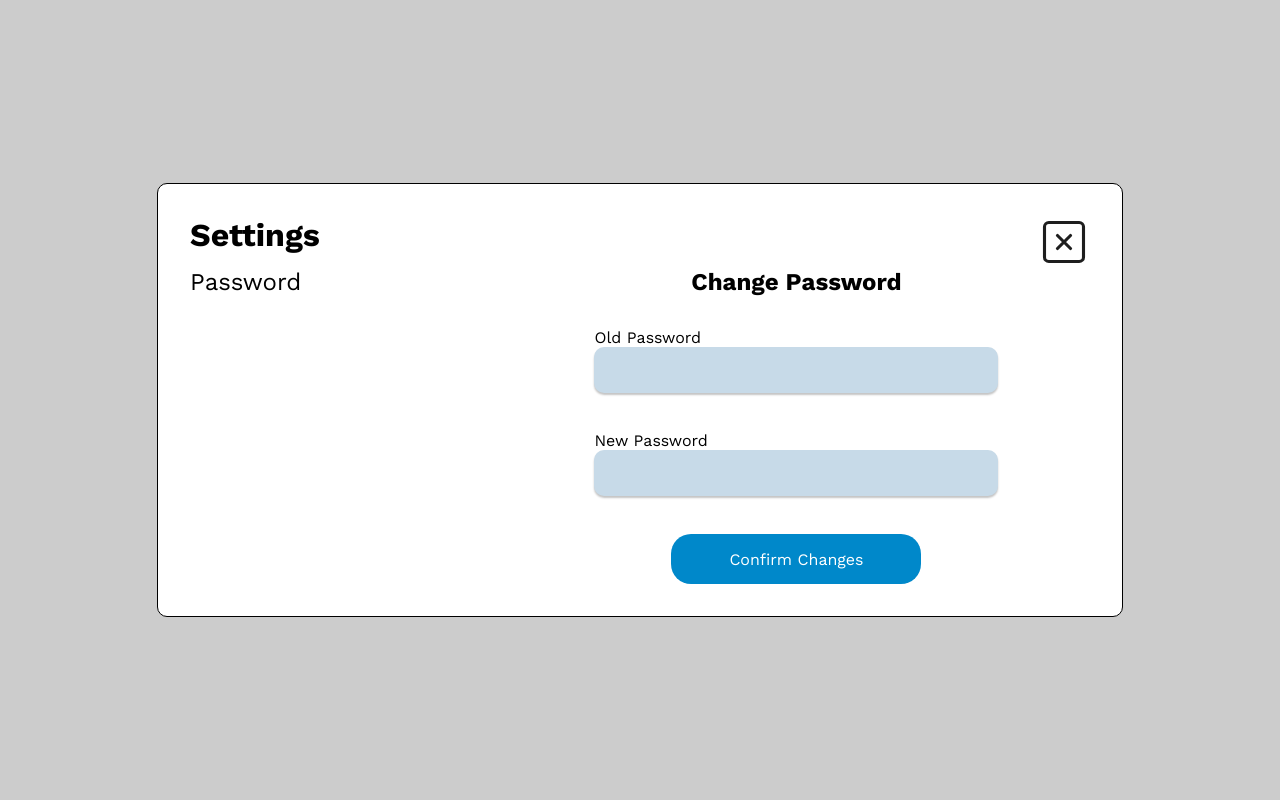
handles password change success
Type "old123" into the password field labelled "Old Password".
click(796, 370); type("old123")  # box [594,347,998,393]
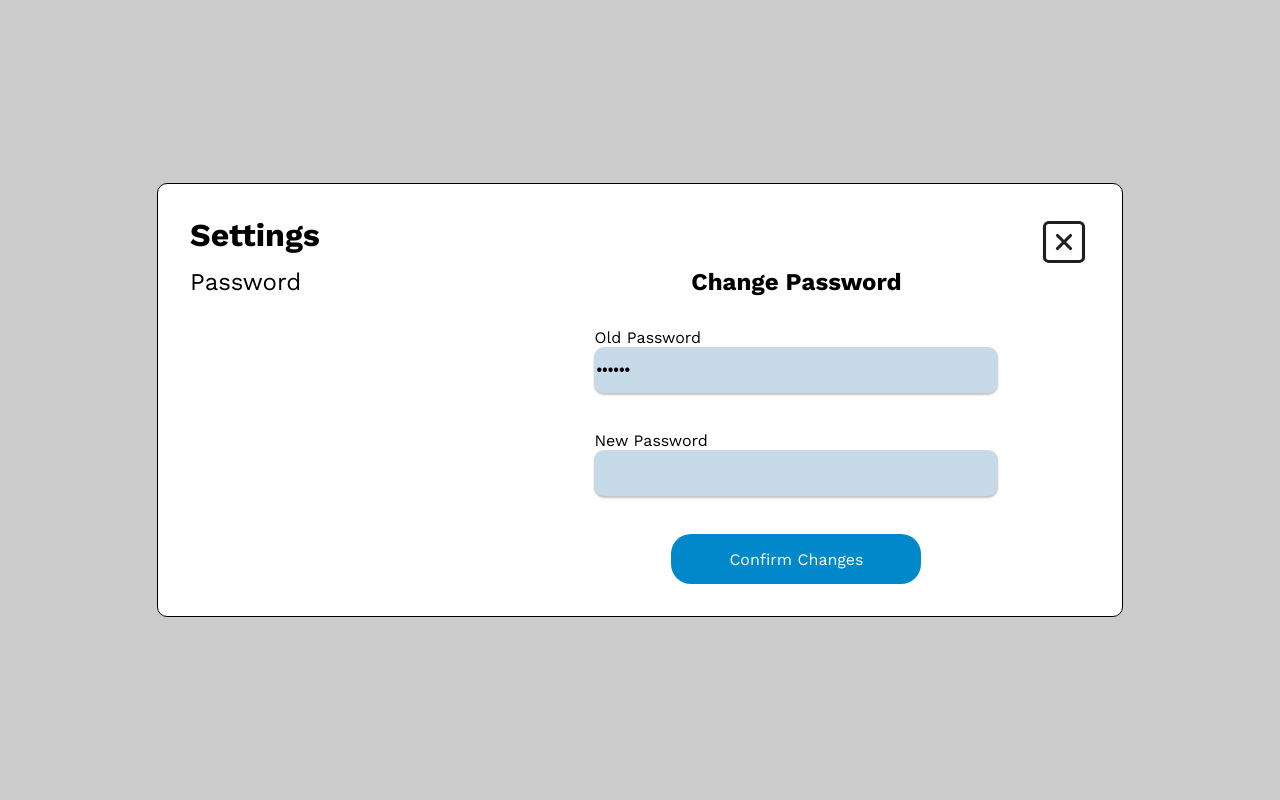
Type "new123" into the password field labelled "New Password".
click(796, 473); type("new123")  # box [594,450,998,496]
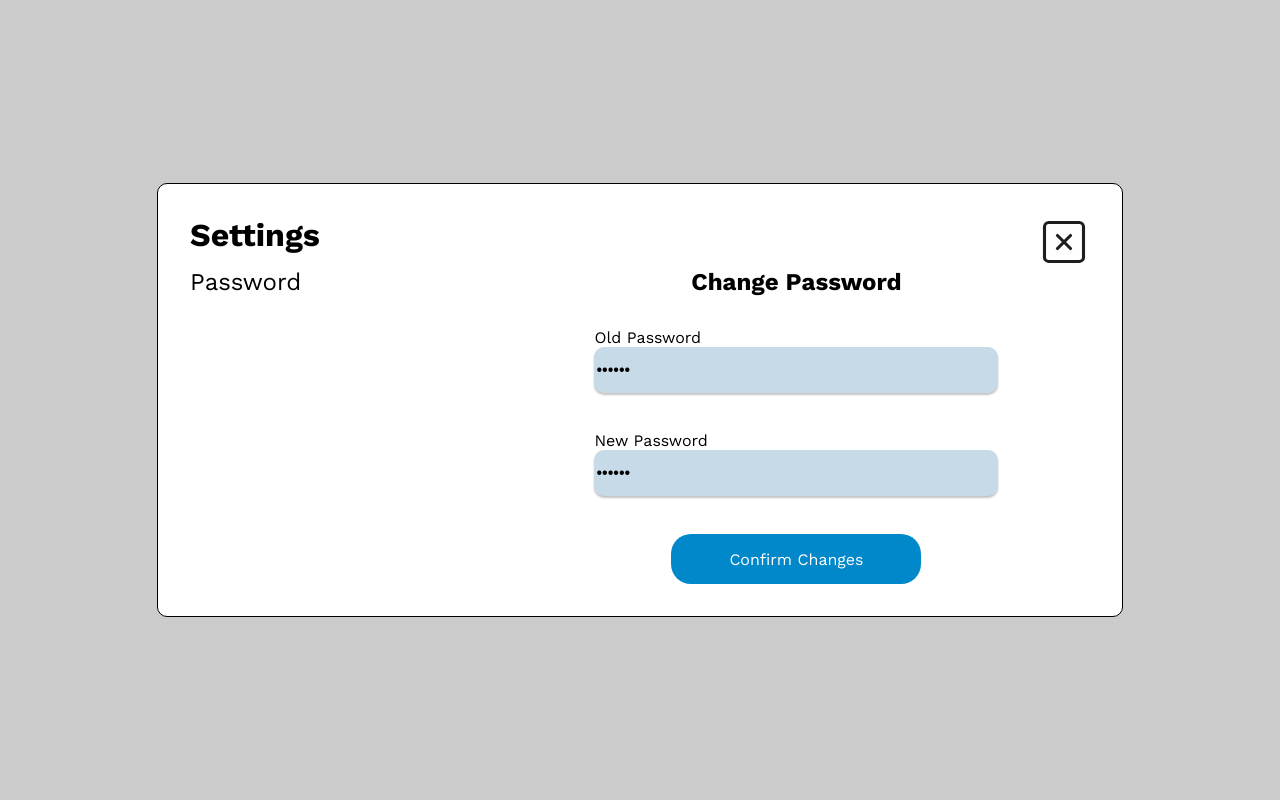
Click the button "Confirm Changes".
click(796, 559)  # box [672,534,922,584]
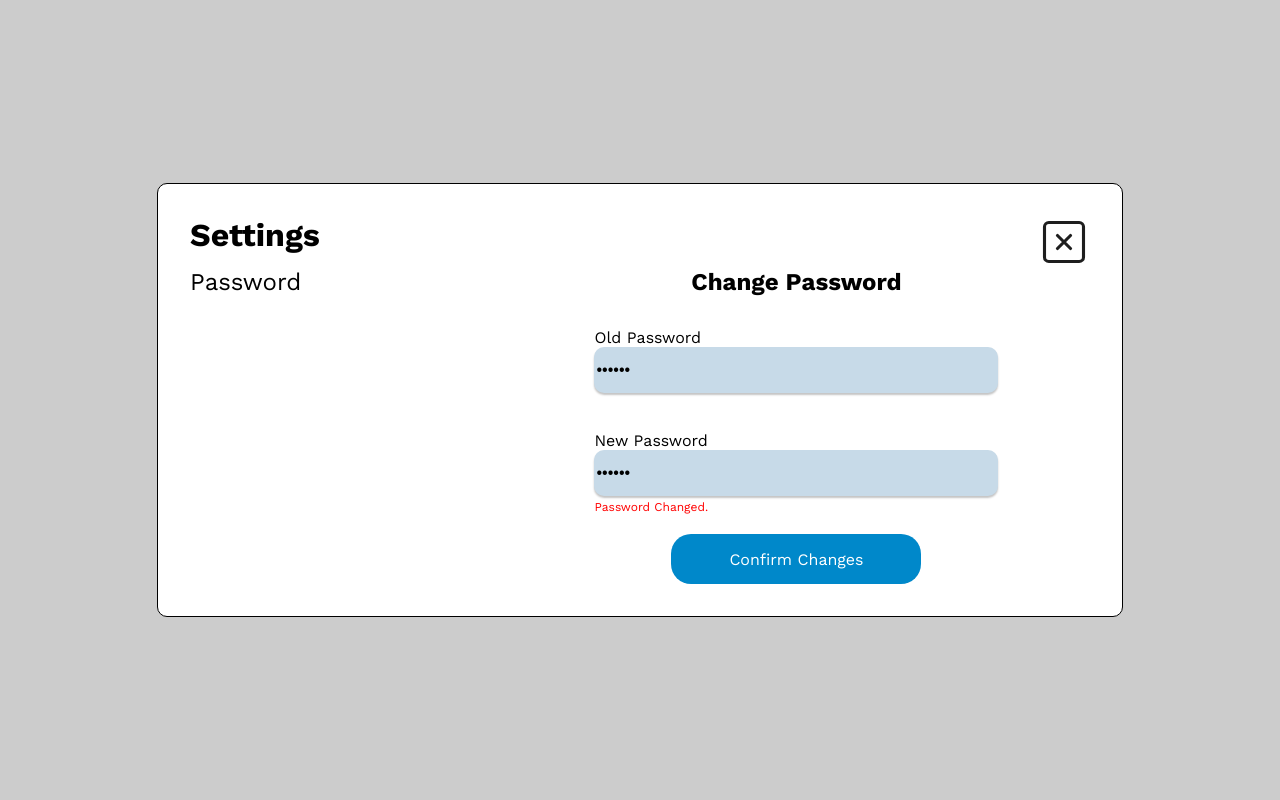
Expected: the text "Password Changed." is shown, [594,500,708,514]
